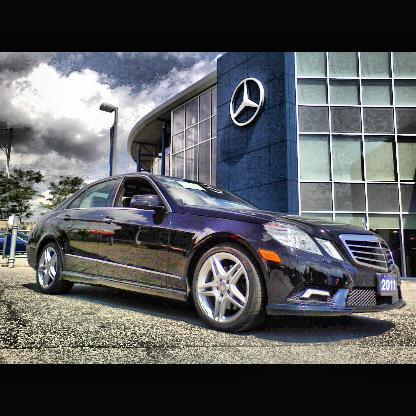Mercedes-Benz E-Class Sedan 2012: (25, 172, 409, 341)
